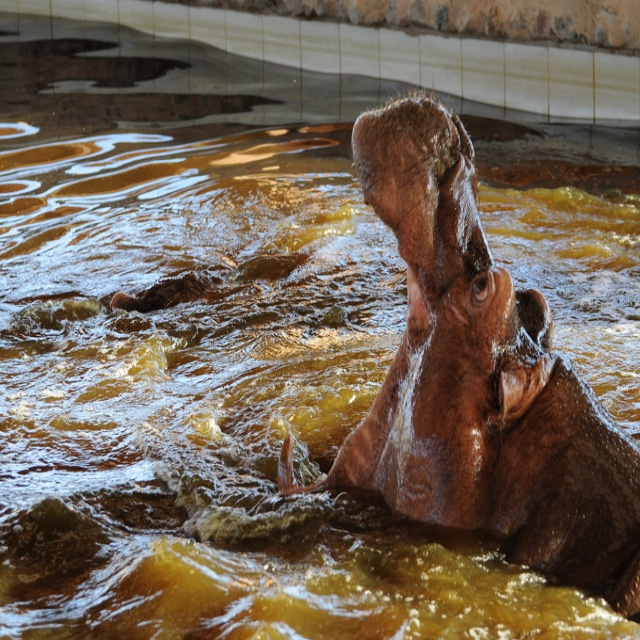Hippopotamus: (273, 83, 640, 630)
